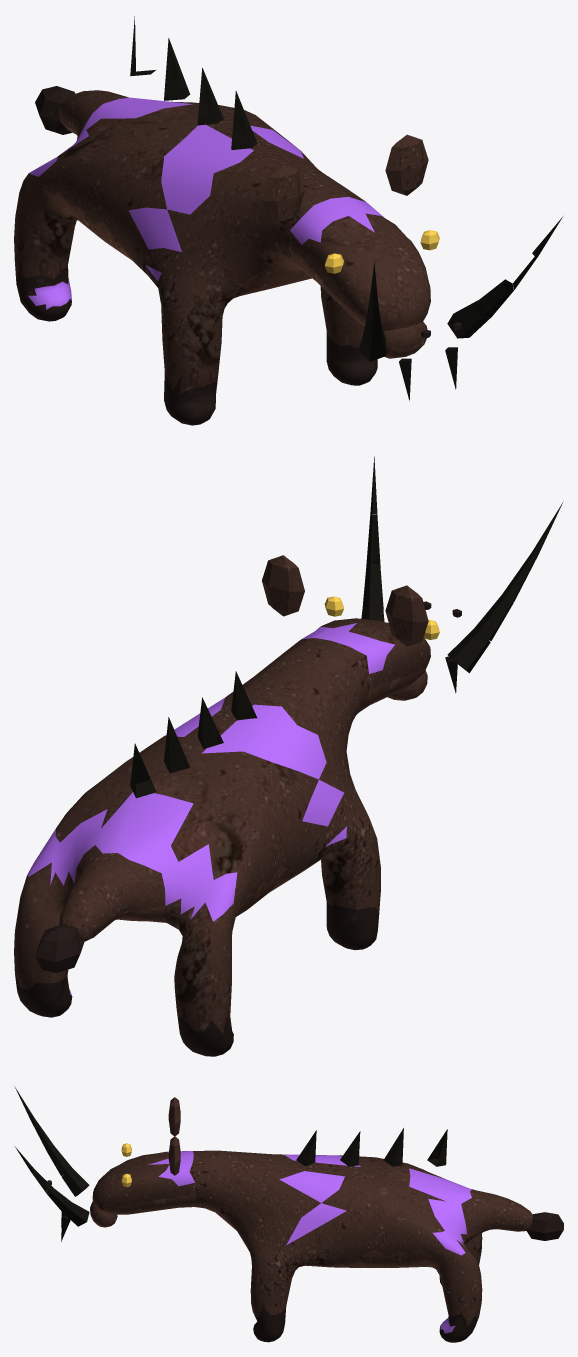
The model's file is boss_03.glb.
3 views of the same model, one above another, from view 1: azimuth 30°, elevation 25°; view 2: azimuth 150°, elevation 25°; view 3: azimuth 270°, elevation 25° (orthographic). The views are drawn at different scales.
Parts seen in each view (by area): view 1: boss_03; view 2: boss_03; view 3: boss_03.
Boxes of the visible parts, x1,y1,x2,y2 form: boss_03: (14, 16, 562, 425); boss_03: (14, 456, 562, 1056); boss_03: (14, 1086, 563, 1342).
Size of the model in its own units: 1.19 by 1.69 by 4.2.
Materials: 6 (4 with a texture image).
